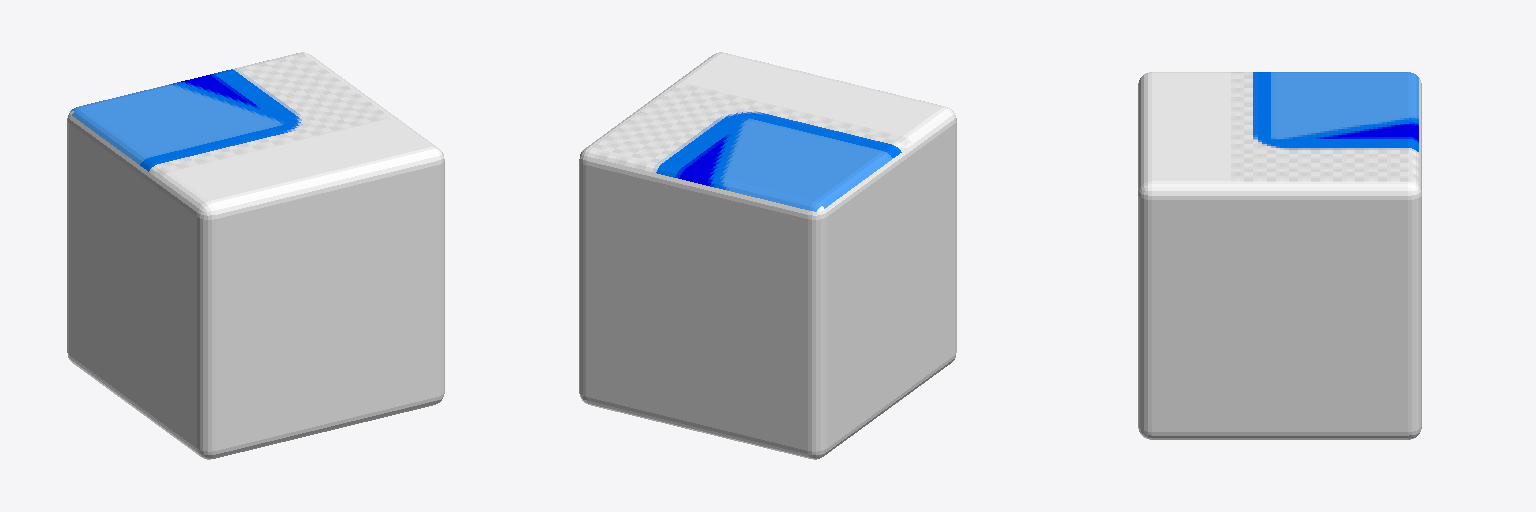
3 views of the same model, side by side, from view 1: azimuth 30°, elevation 25°; view 2: azimuth 150°, elevation 25°; view 3: azimuth 270°, elevation 25° (orthographic).
Visible parts, largest first — view 1: Cube_Finished_Cube.001; view 2: Cube_Finished_Cube.001; view 3: Cube_Finished_Cube.001.
Part boxes in pixels (bbox=[...]): Cube_Finished_Cube.001: bbox=[67, 52, 444, 459]; Cube_Finished_Cube.001: bbox=[579, 52, 956, 459]; Cube_Finished_Cube.001: bbox=[1138, 72, 1421, 439].
Bounding box in the file's own units: 2 × 2 × 2.
1 materials, 1 textured.